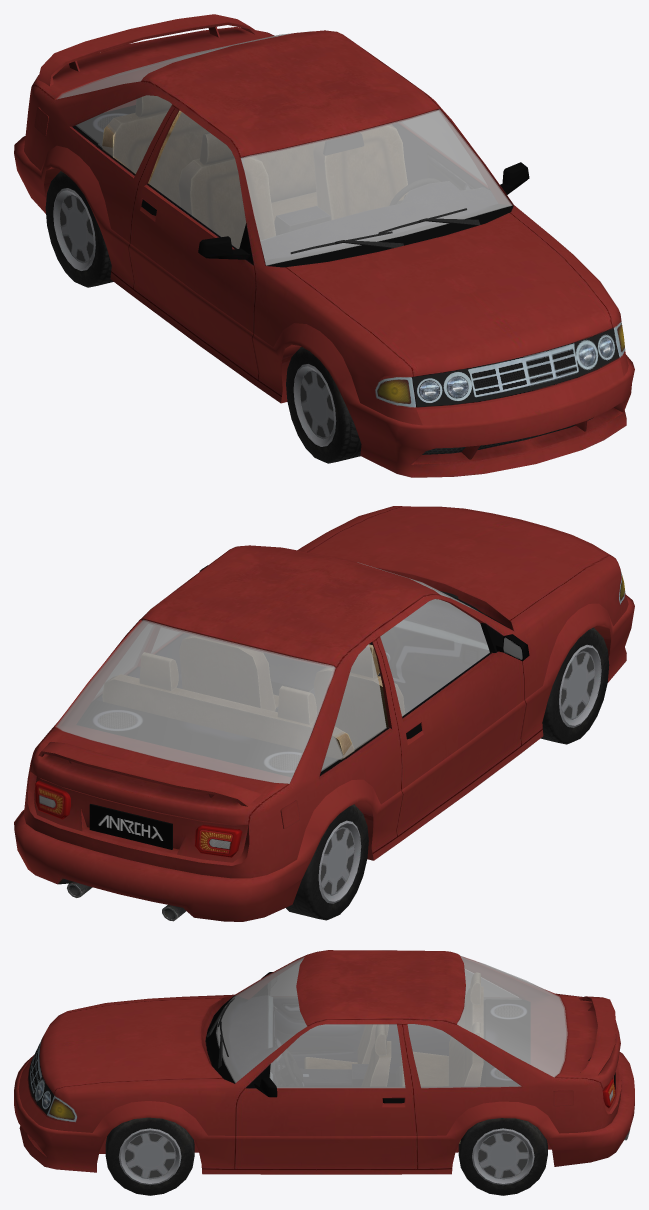
Rendered from Car.fbx.
The picture shows the model from 3 angles, top to bottom: view 1: azimuth 30°, elevation 25°; view 2: azimuth 150°, elevation 25°; view 3: azimuth 270°, elevation 25°; orthographic projection. The views are drawn at different scales.
Visible parts, largest first — view 1: Body, Glass, Right_Tyre1, Right_Tyre; view 2: Body, Glass, Right_Tyre, Right_Tyre1; view 3: Body, Glass, Left_Tyre1, Left_Tyre, Steering.
Boxes of the visible parts, bbox=[...] form: Body: bbox=[14, 14, 634, 477]; Glass: bbox=[57, 31, 512, 265]; Right_Tyre1: bbox=[286, 347, 361, 463]; Right_Tyre: bbox=[45, 171, 113, 287]; Body: bbox=[14, 506, 634, 921]; Glass: bbox=[56, 562, 489, 783]; Right_Tyre: bbox=[286, 804, 368, 920]; Right_Tyre1: bbox=[540, 627, 609, 744]; Body: bbox=[14, 950, 634, 1174]; Glass: bbox=[216, 955, 567, 1088]; Left_Tyre1: bbox=[105, 1117, 194, 1195]; Left_Tyre: bbox=[458, 1118, 547, 1195]; Steering: bbox=[282, 1051, 303, 1085].
Bounding box in the file's own units: 257 × 174 × 578.
